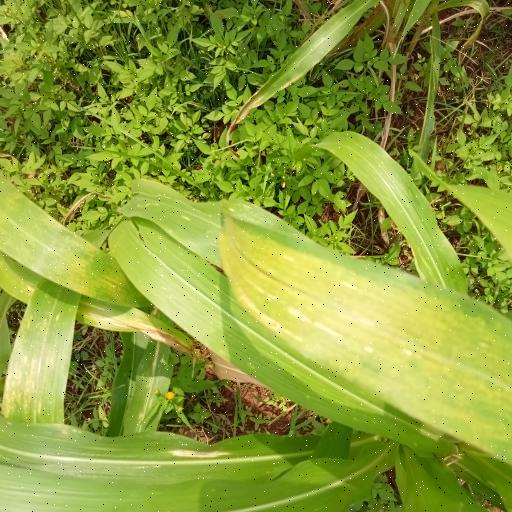Corn_Brown_Spots: (214, 200, 512, 470), (1, 171, 132, 431)
